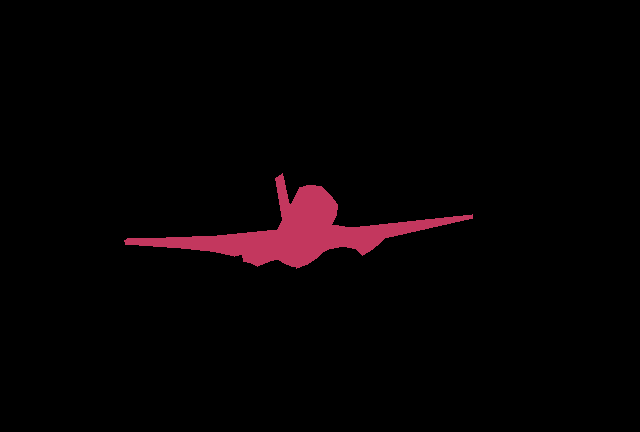Airplane: (124, 173, 473, 269)
